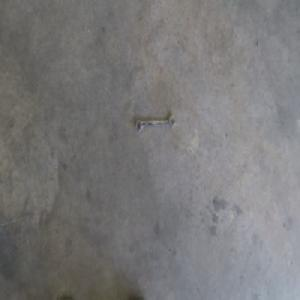Wrench: (134, 115, 175, 133)
